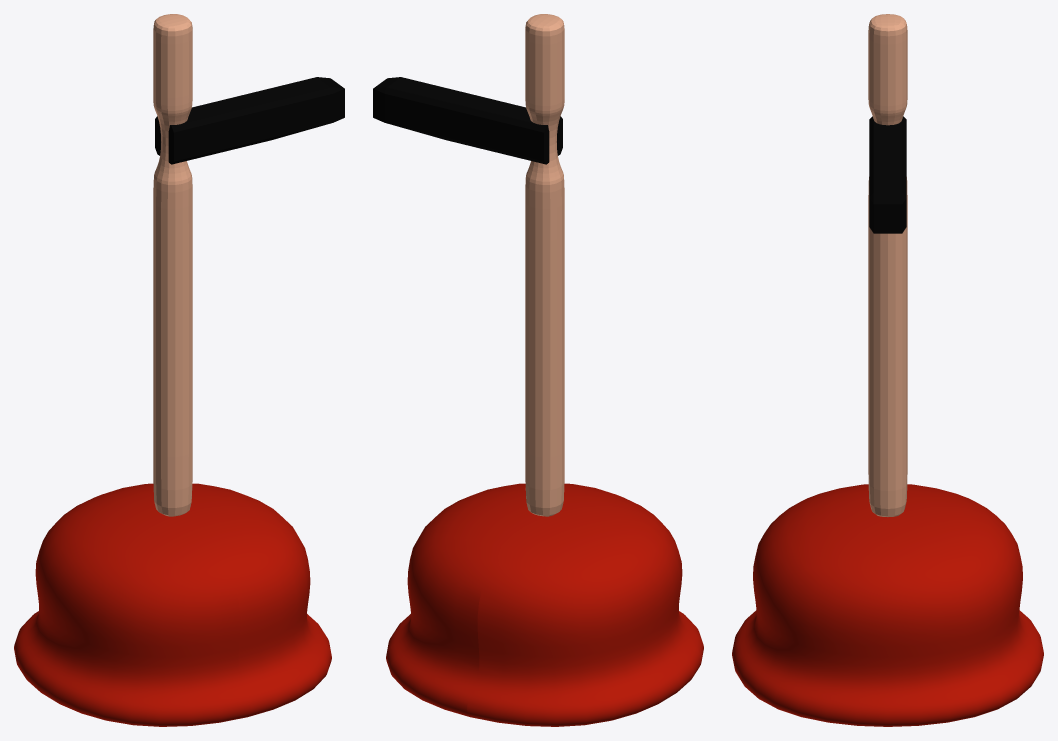
Rendered from toiletplunger.fbx.
3 views of the same model, side by side, from view 1: azimuth 30°, elevation 25°; view 2: azimuth 150°, elevation 25°; view 3: azimuth 270°, elevation 25° (orthographic).
Visible parts, largest first — view 1: Cube.002; view 2: Cube.002; view 3: Cube.002.
Boxes of the visible parts, x1,y1,x2,y2 form: Cube.002: (14, 14, 344, 726); Cube.002: (373, 14, 703, 726); Cube.002: (732, 14, 1043, 726).
Bounding box in the file's own units: 202 × 415 × 182.
